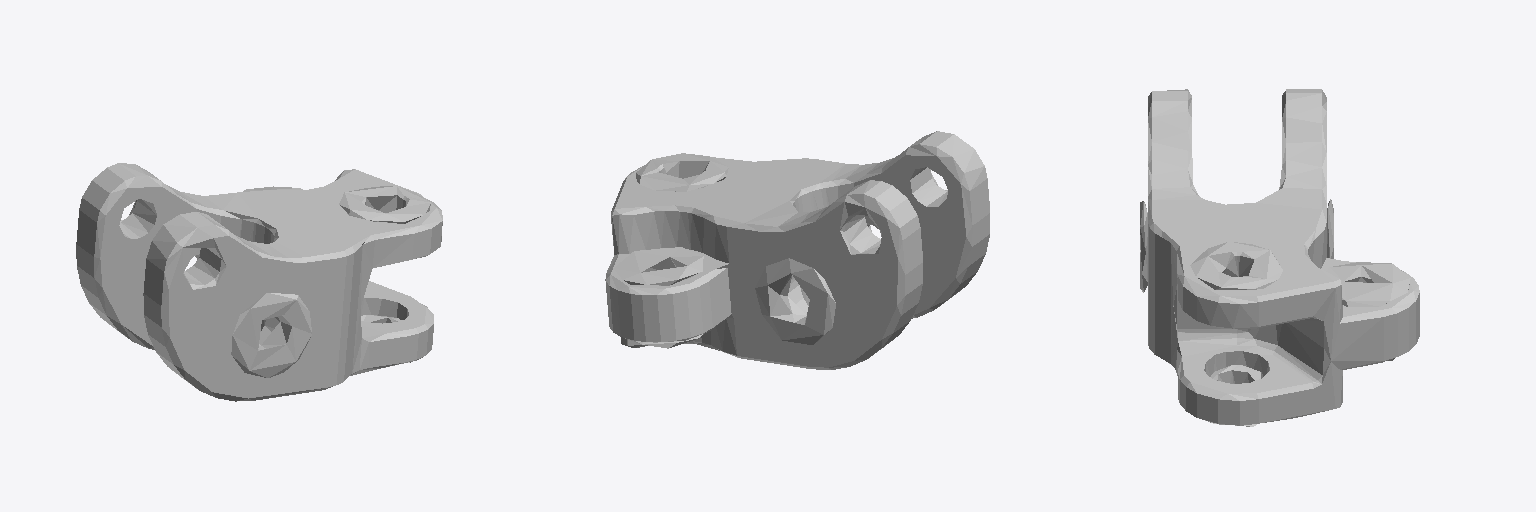
The model's file is L_thumb_proximal_base.obj.
3 renders of one model, left to right at view 1: azimuth 30°, elevation 25°; view 2: azimuth 150°, elevation 25°; view 3: azimuth 270°, elevation 25°, orthographic.
Parts seen in each view (by area): view 1: L_thumb_proximal_base; view 2: L_thumb_proximal_base; view 3: L_thumb_proximal_base.
Part boxes in pixels (x1,y1,x2,y2): L_thumb_proximal_base: (76, 163, 442, 401); L_thumb_proximal_base: (605, 131, 989, 369); L_thumb_proximal_base: (1140, 89, 1419, 426).
Bounding box in the file's own units: 0.0245 × 0.0157 × 0.0187.